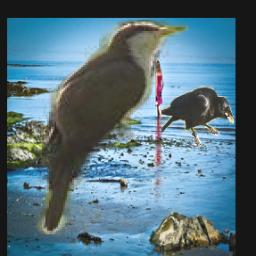Crow: (162, 86, 235, 146)
Cuckoo: (35, 20, 188, 236)
